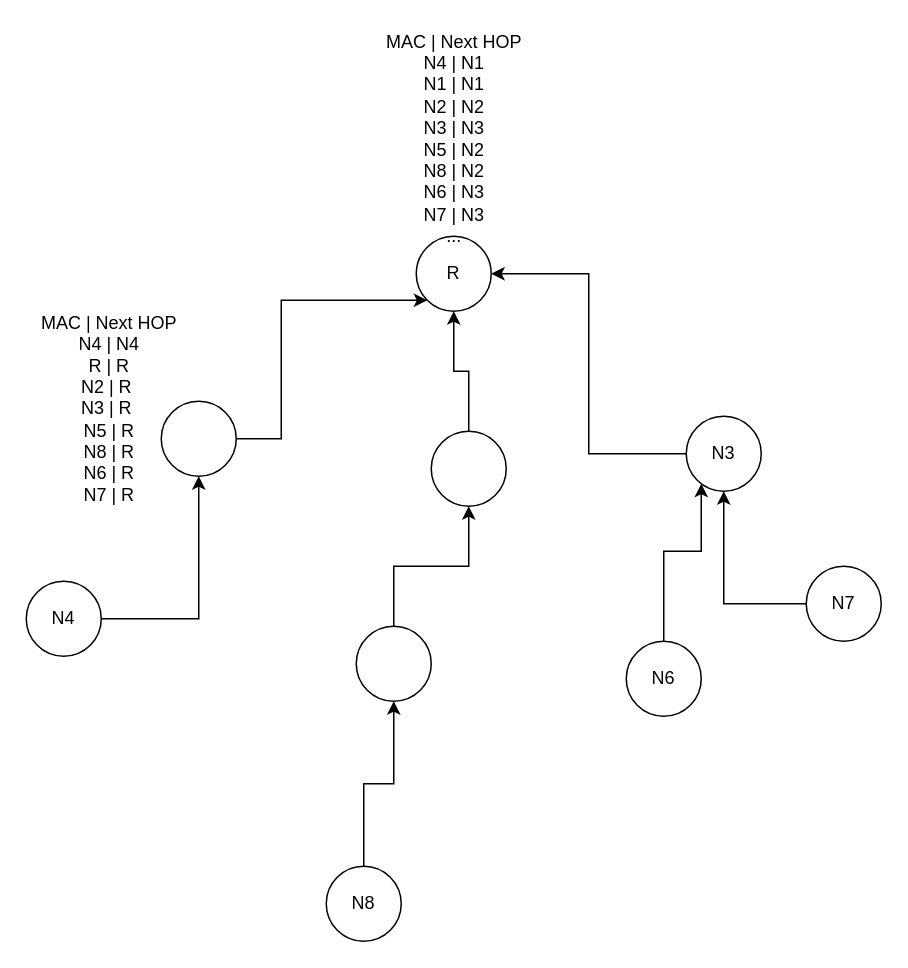
Image size: 908x968. Some labels were removed from this diagram. Each missing label, with the centre of its shape:
"N1" goes at point 198,438.
"N2" goes at point 468,468.
"N5" goes at point 393,663.
